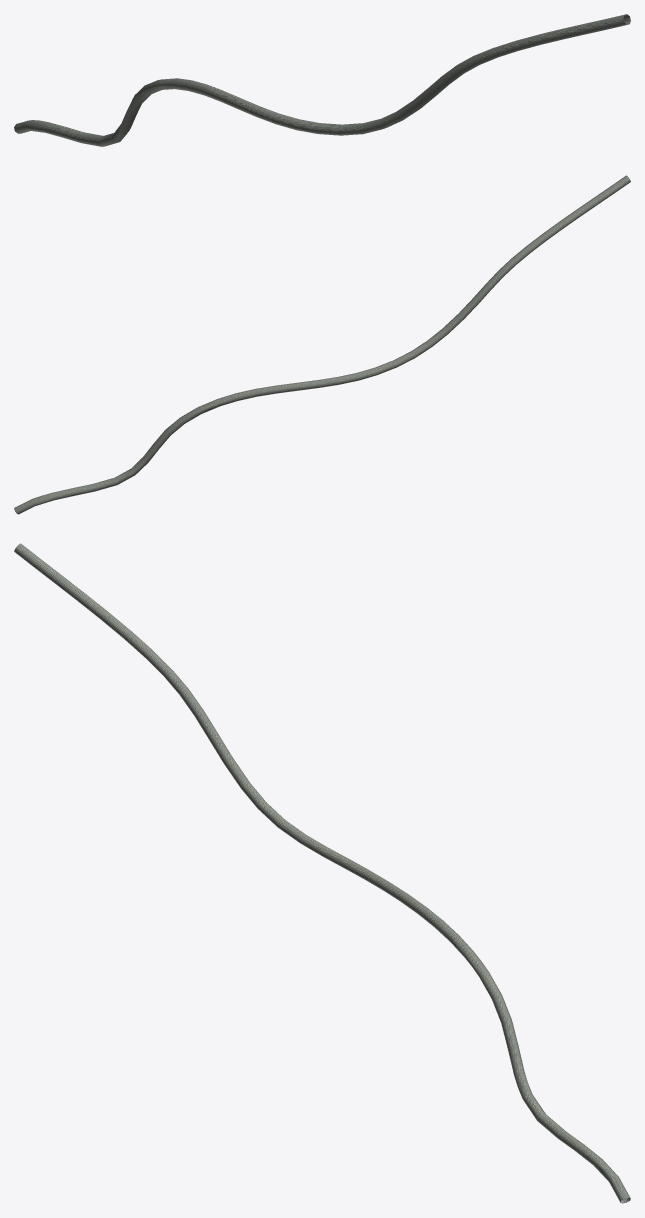
The model's file is microtubule37.fbx.
3 renders of one model, top to bottom at view 1: azimuth 90°, elevation 25°; view 2: azimuth 150°, elevation 25°; view 3: azimuth 270°, elevation 25°, orthographic. The views are drawn at different scales.
Parts seen in each view (by area): view 1: microtubule37; view 2: microtubule37; view 3: microtubule37.
Part boxes in pixels (x1,y1,x2,y2): microtubule37: (14,14,630,146); microtubule37: (14,175,630,514); microtubule37: (14,543,630,1203).
Size of the model in its own units: 8645 by 5696 by 8180.
Materials: 1 (1 with a texture image).
